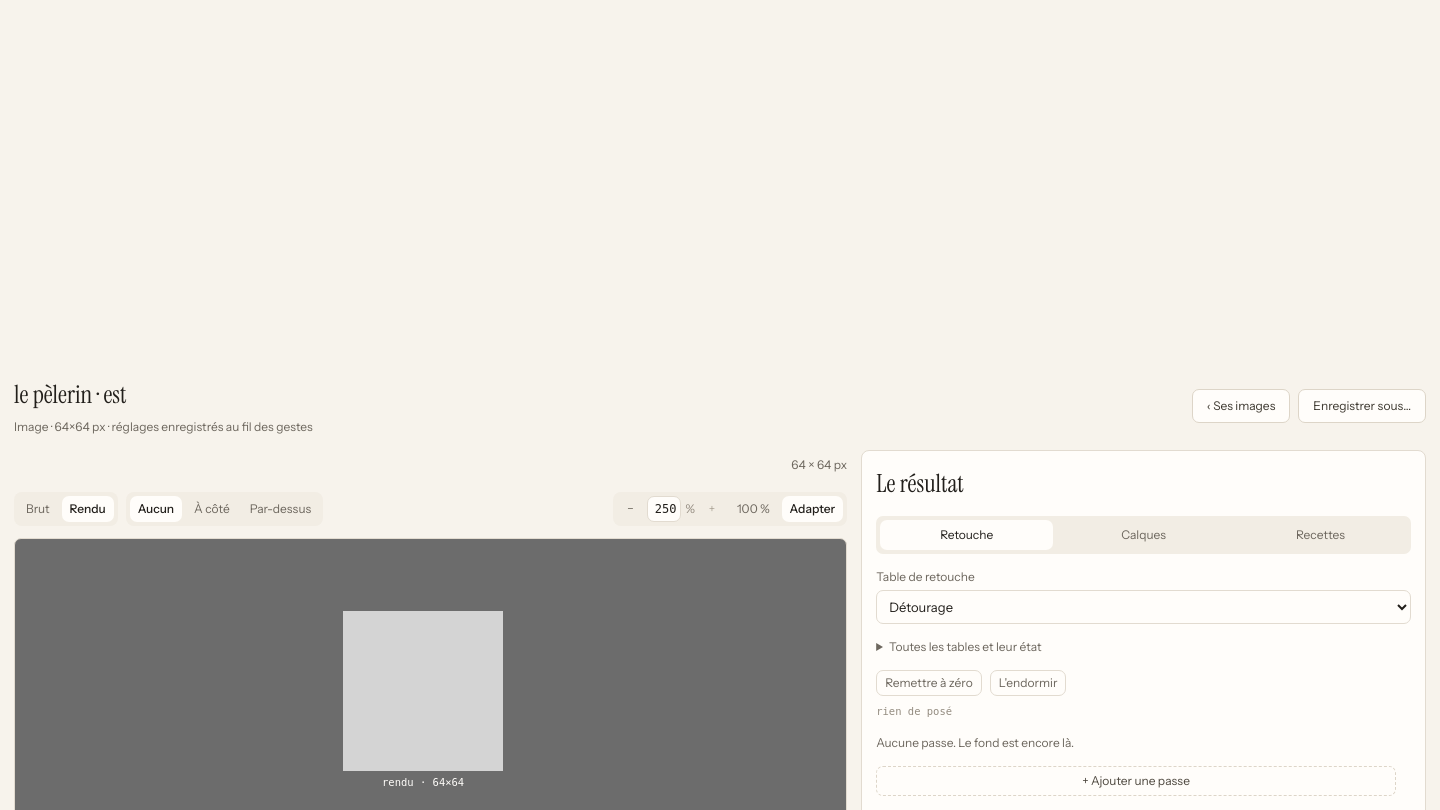
avec une retouche, le geste ouvre une fenêtre préremplie sur la direction au miroir
This screenshot has width=1440, height=810.
(page scrolled)
Click the button "Enregistrer sous…" at (1362, 406), box [1298,389,1426,423]
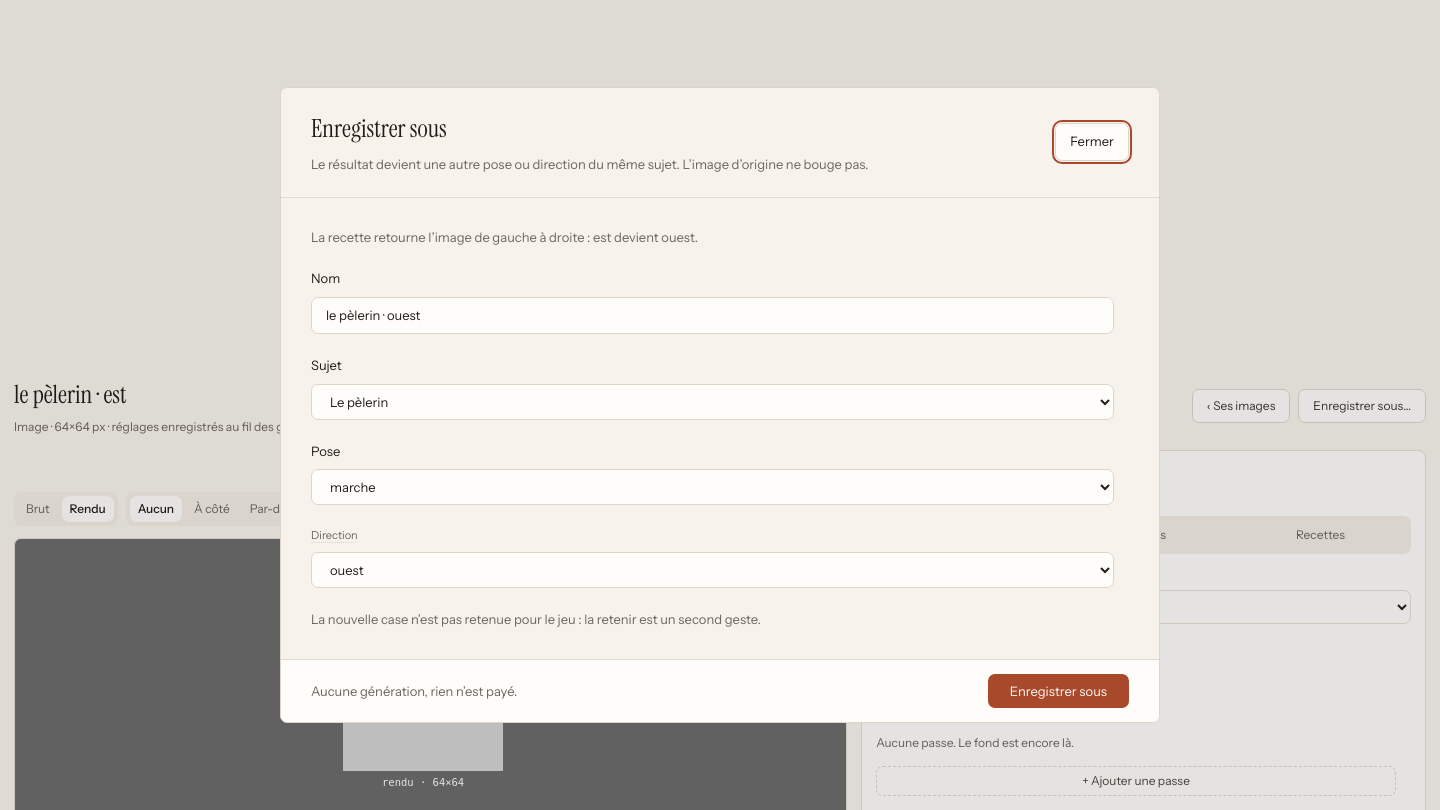
Result: the dialog labelled "Enregistrer sous" is shown at [280,87,1160,723]
Result: the dropdown labelled "Direction" shows "ouest" at [311,552,1114,588]
Result: the dropdown labelled "Sujet" shows "Le pèlerin" at [311,384,1114,420]
